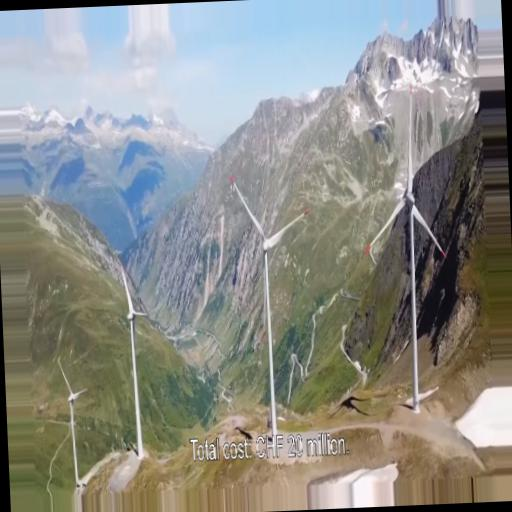wind turbine: (363, 83, 447, 401), (232, 182, 306, 429), (120, 267, 152, 455), (56, 359, 90, 485)
